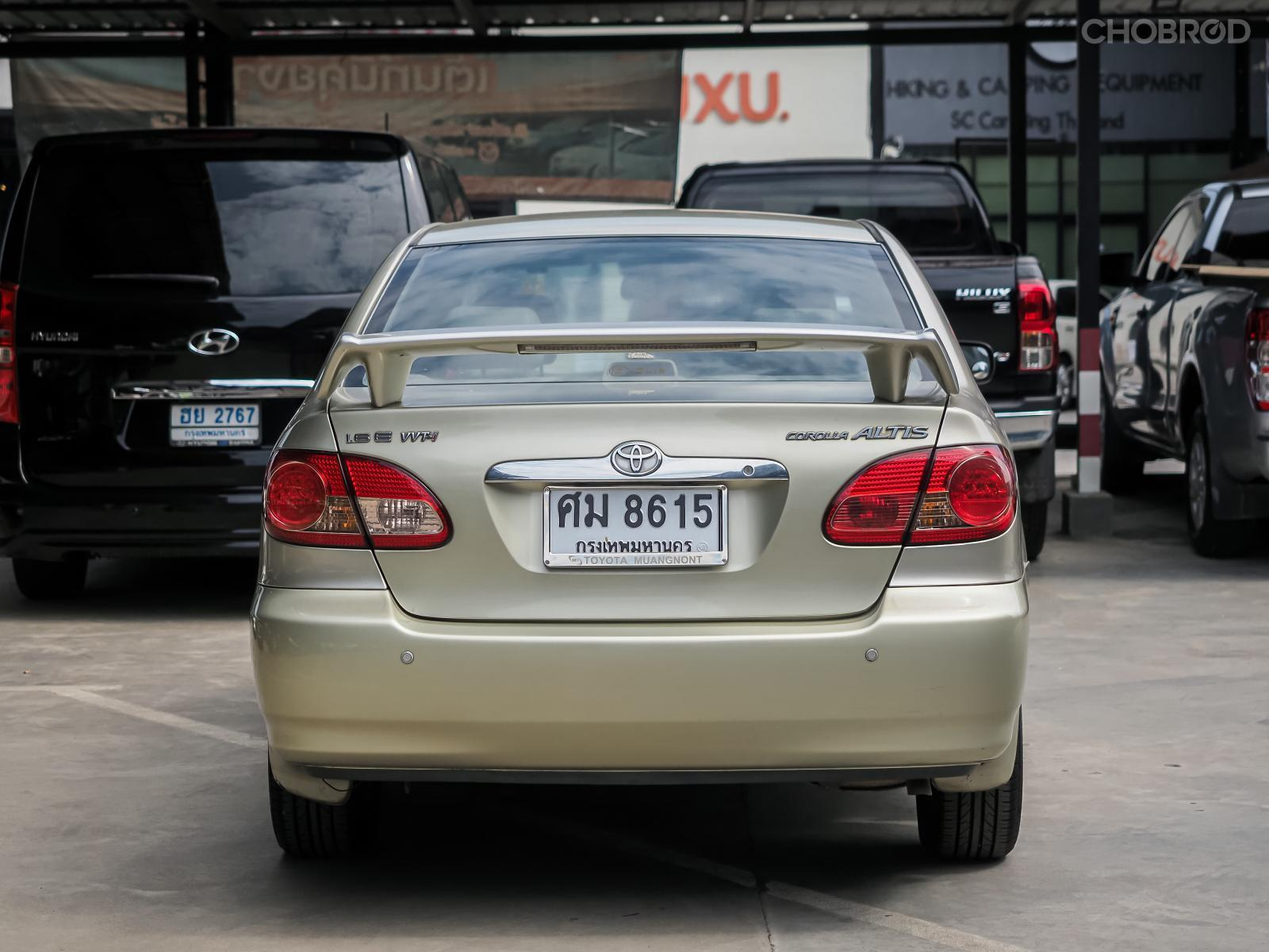license-plate: (541, 477, 731, 572), (167, 399, 265, 447)
